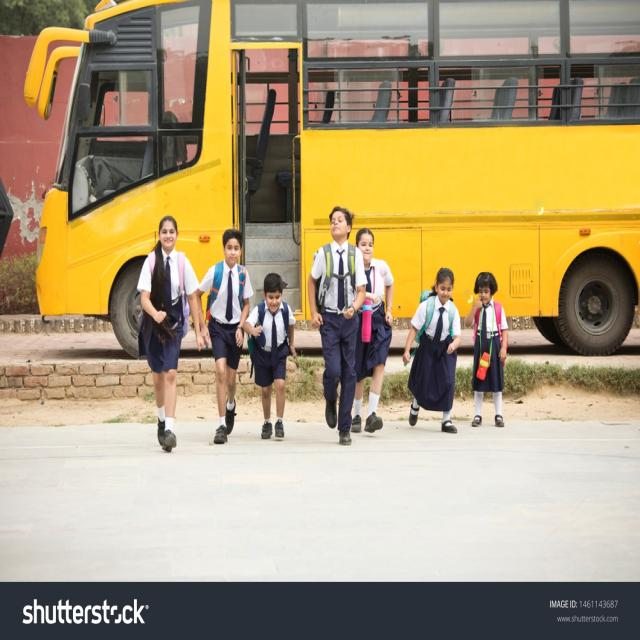bus: (25, 0, 640, 355)
